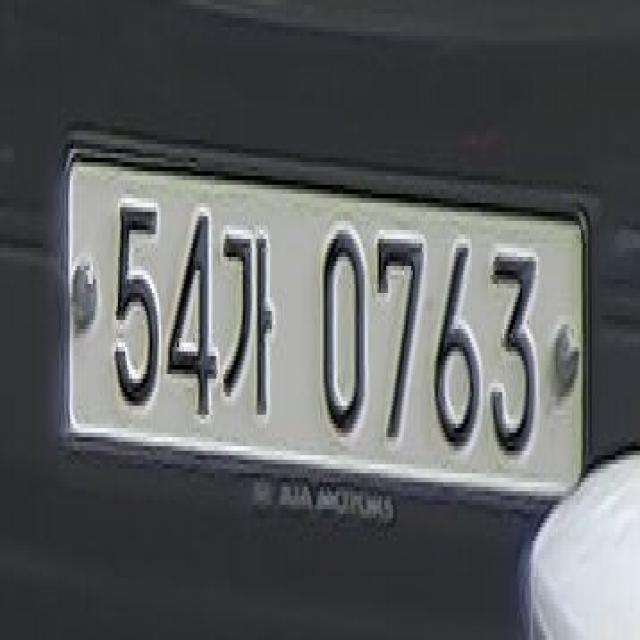0: (310, 216, 368, 446)
3: (482, 239, 542, 464)
4: (163, 194, 220, 432)
5: (111, 176, 168, 419)
6: (429, 212, 485, 473)
7: (372, 212, 425, 451)
ga: (213, 212, 284, 424)
license_plate: (58, 117, 596, 541)
